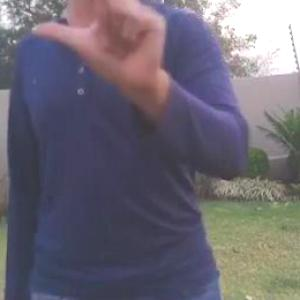land_hand: (31, 0, 172, 95)
